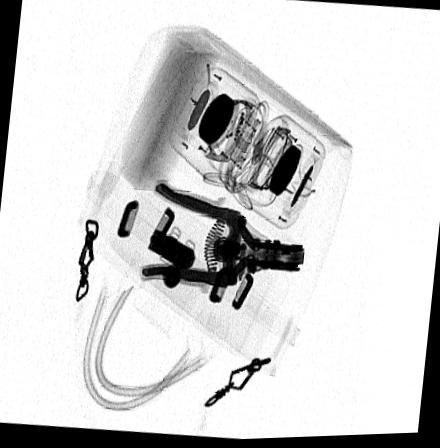Pliers: (139, 182, 305, 292)
